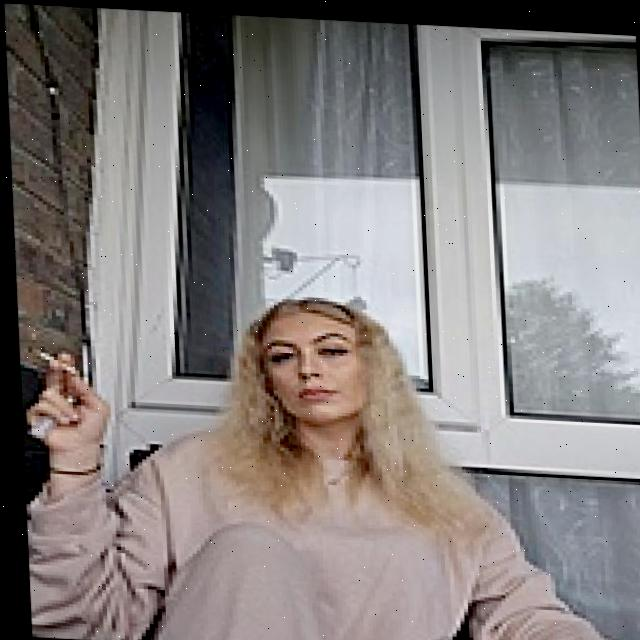cigarette: (26, 349, 75, 371)
